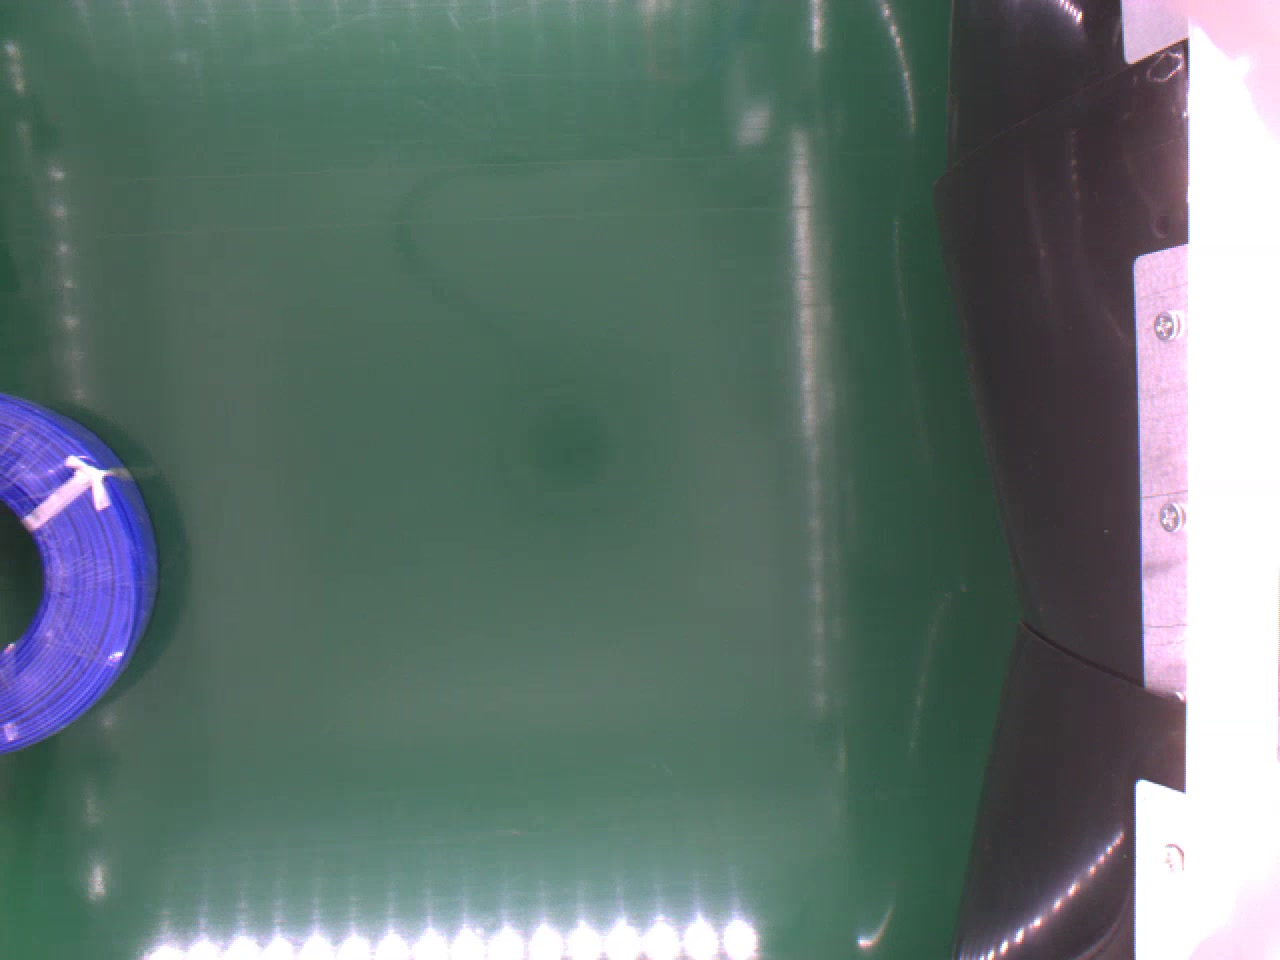blue: (0, 392, 166, 757)
